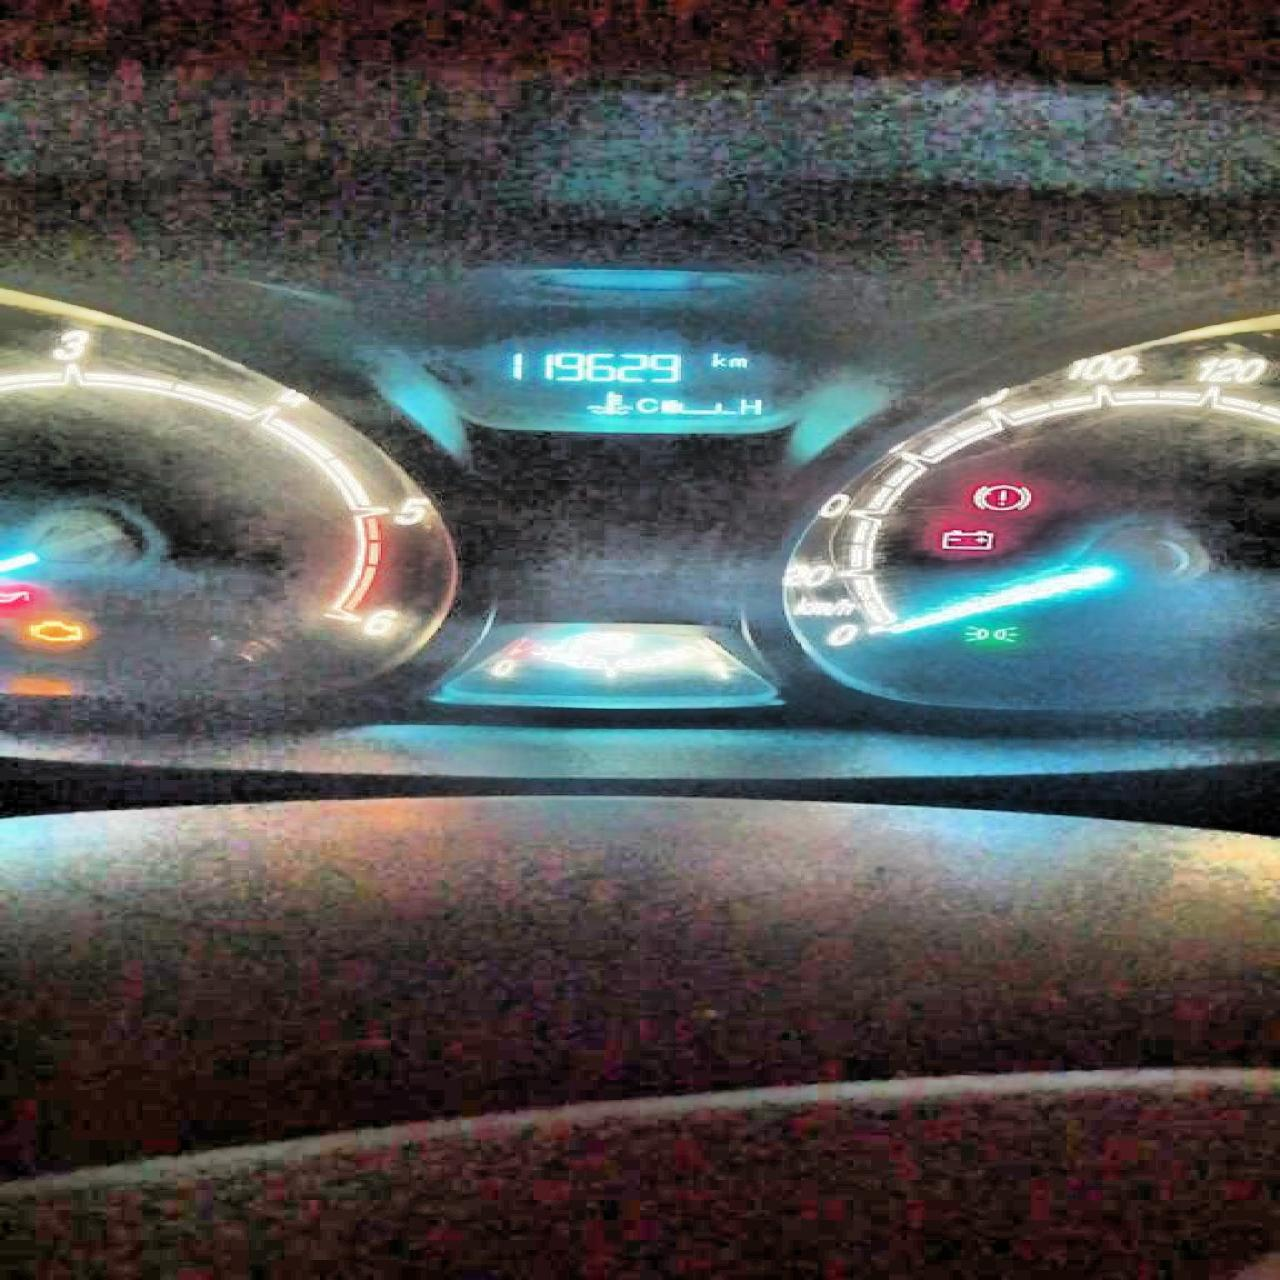1: (509, 349, 523, 381), (543, 350, 553, 381)
2: (615, 352, 647, 383)
6: (585, 352, 615, 382)
9: (553, 350, 583, 381), (649, 353, 680, 382)
X: (736, 395, 762, 415), (633, 396, 655, 414), (727, 356, 747, 368), (709, 350, 724, 366)
odometer: (474, 325, 791, 418)
